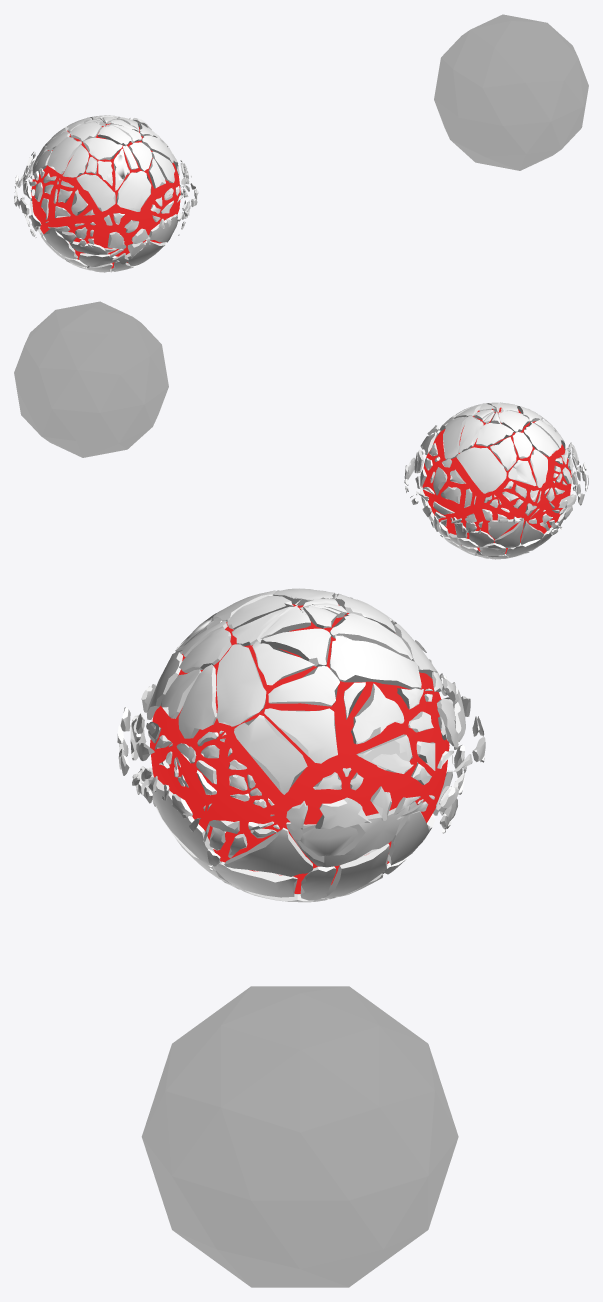
The model's file is rover.glb.
3 views of the same model, one above another, from view 1: azimuth 30°, elevation 25°; view 2: azimuth 150°, elevation 25°; view 3: azimuth 270°, elevation 25° (orthographic). The views are drawn at different scales.
Visible parts, largest first — view 1: Icosphere, Sphere, Sphere_cell.085, Sphere_cell.016, Sphere_cell.060, Sphere_cell.073, Sphere_cell.018, Sphere_cell.059, Sphere_cell.031, Sphere_cell.045, Sphere_cell.093, Sphere_cell.086 (+4 smaller); view 2: Icosphere, Sphere, Sphere_cell.056, Sphere_cell.035, Sphere_cell.060, Sphere_cell.052, Sphere_cell.084, Sphere_cell.021, Sphere_cell.002, Sphere_cell.086, Sphere_cell.043, Sphere_cell.048 (+1 smaller); view 3: Icosphere, Sphere, Sphere_cell.035, Sphere_cell.063, Sphere_cell.096, Sphere_cell.012, Sphere_cell.039, Sphere_cell.095, Sphere_cell.008, Sphere_cell.055, Sphere_cell.030_cell.085, Sphere_cell.045 (+13 smaller).
Part boxes in pixels (<box>): Icosphere: <box>434,14,588,170</box>; Sphere: <box>31,123,180,268</box>; Sphere_cell.085: <box>116,171,151,211</box>; Sphere_cell.016: <box>76,174,115,211</box>; Sphere_cell.060: <box>47,137,81,174</box>; Sphere_cell.073: <box>83,137,122,160</box>; Sphere_cell.018: <box>62,145,88,177</box>; Sphere_cell.059: <box>43,229,77,259</box>; Sphere_cell.031: <box>126,241,165,266</box>; Sphere_cell.045: <box>149,214,177,242</box>; Sphere_cell.093: <box>129,142,152,171</box>; Sphere_cell.086: <box>69,121,102,141</box>; Icosphere: <box>14,301,168,457</box>; Sphere: <box>422,407,571,553</box>; Sphere_cell.056: <box>456,447,506,493</box>; Sphere_cell.035: <box>443,416,466,459</box>; Sphere_cell.060: <box>523,422,559,456</box>; Sphere_cell.052: <box>476,423,513,446</box>; Sphere_cell.084: <box>458,415,483,452</box>; Sphere_cell.021: <box>490,437,516,470</box>; Sphere_cell.002: <box>530,449,547,487</box>; Sphere_cell.086: <box>498,410,529,432</box>; Sphere_cell.043: <box>494,518,524,547</box>; Sphere_cell.048: <box>512,432,532,458</box>; Icosphere: <box>141,986,458,1287</box>; Sphere: <box>150,604,449,893</box>; Sphere_cell.035: <box>329,635,421,689</box>; Sphere_cell.063: <box>216,644,266,726</box>; Sphere_cell.096: <box>234,715,307,794</box>; Sphere_cell.012: <box>264,708,337,763</box>; Sphere_cell.039: <box>286,805,409,867</box>; Sphere_cell.095: <box>224,827,312,876</box>; Sphere_cell.008: <box>268,666,339,706</box>; Sphere_cell.055: <box>178,664,216,738</box>; Sphere_cell.030_cell.085: <box>351,683,404,744</box>; Sphere_cell.045: <box>148,776,214,865</box>.
Size of the model in its own units: 8.02 by 2.02 by 2.32.
